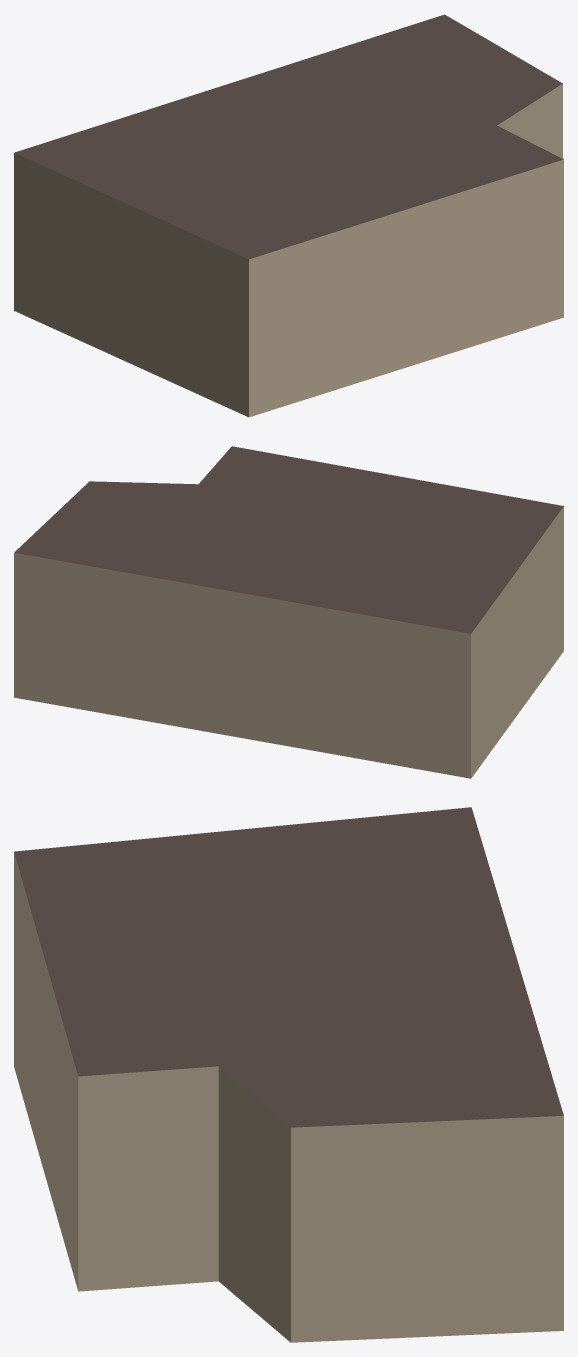
The picture shows the model from 3 angles, top to bottom: view 1: azimuth 30°, elevation 25°; view 2: azimuth 150°, elevation 25°; view 3: azimuth 270°, elevation 25°; orthographic projection. The views are drawn at different scales.
Parts seen in each view (by area): view 1: HP-w1512497741; view 2: HP-w1512497741; view 3: HP-w1512497741.
Boxes of the visible parts, x1=… form: HP-w1512497741: x1=14, y1=14, x2=563, y2=417; HP-w1512497741: x1=14, y1=446, x2=563, y2=778; HP-w1512497741: x1=14, y1=807, x2=563, y2=1342.
Bounding box in the file's own units: 28.76 × 9 × 20.86.
